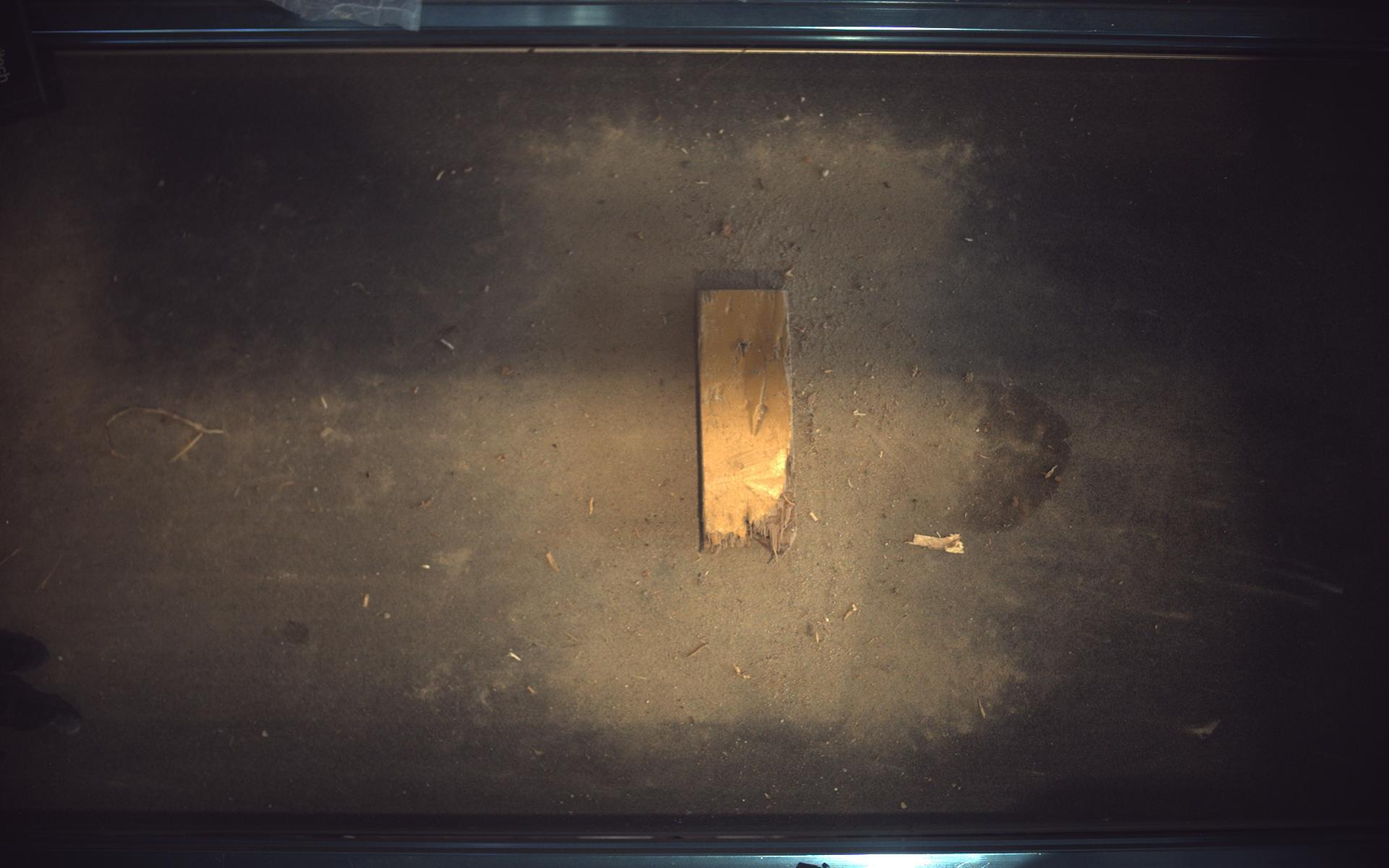wood: (700, 289, 797, 558)
